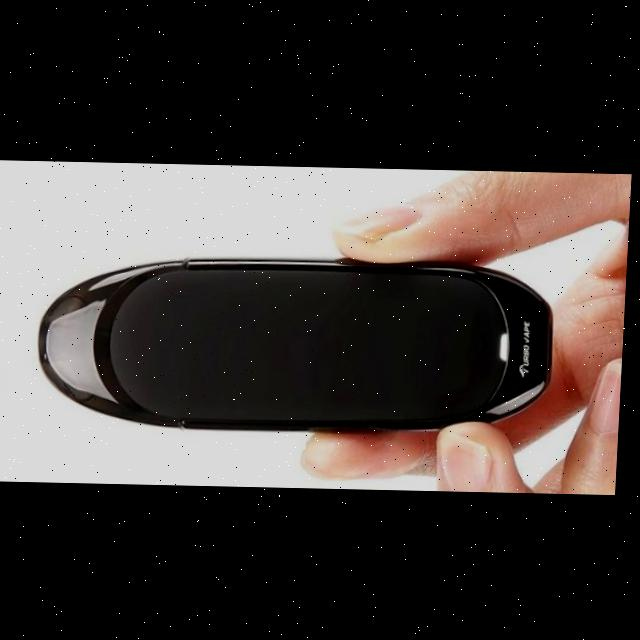vape: (38, 251, 558, 434)
